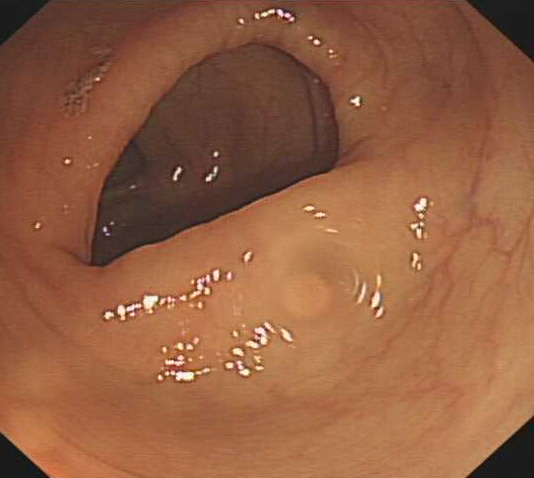adenoma: (273, 272, 331, 323)
